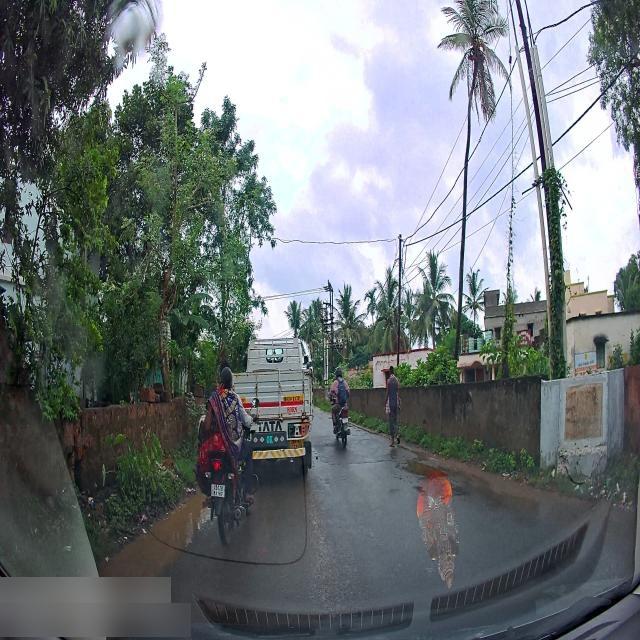pothole: (104, 499, 203, 582), (404, 454, 441, 476), (455, 479, 467, 493)
